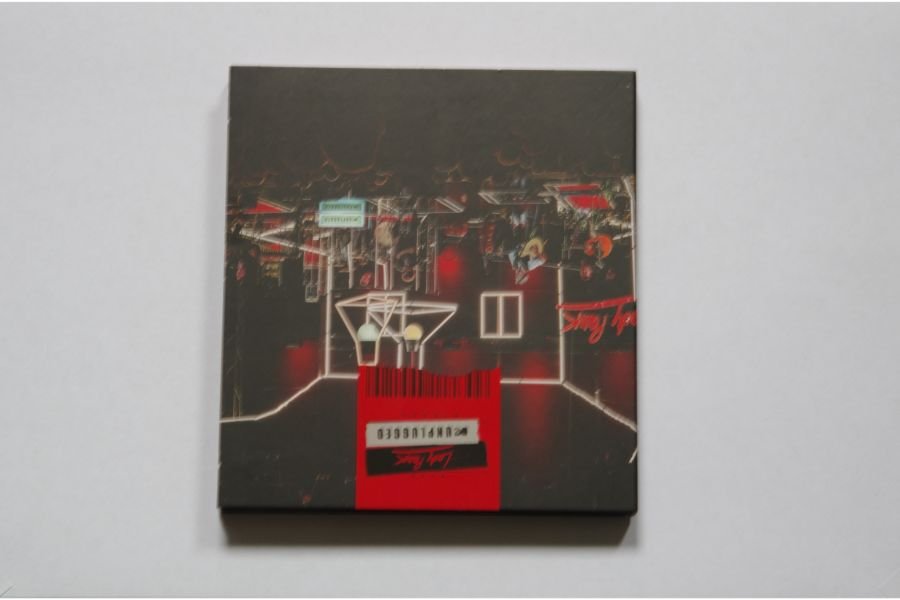album: (218, 64, 639, 514)
